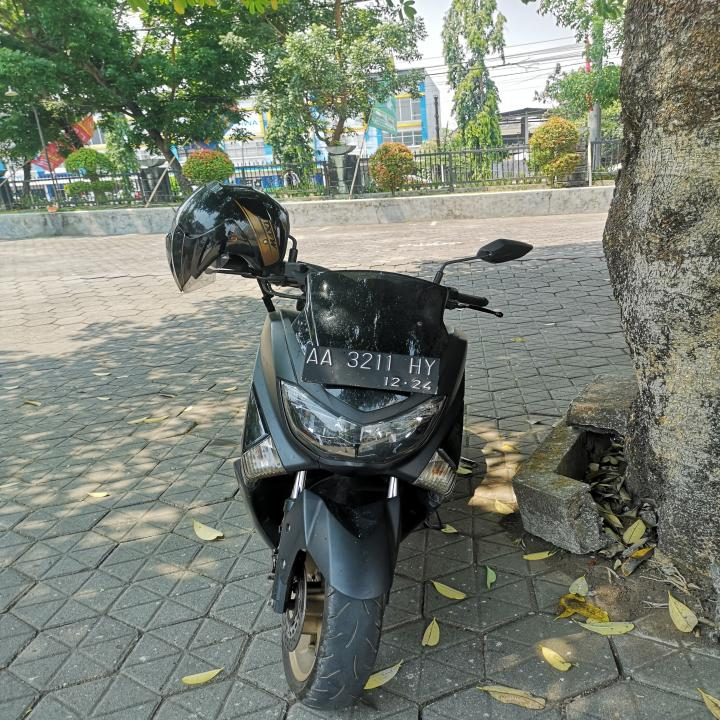plate: (296, 344, 438, 394)
